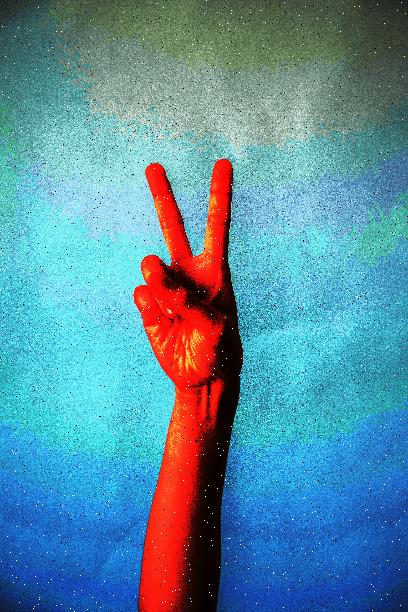Scissors: (129, 153, 254, 397)
